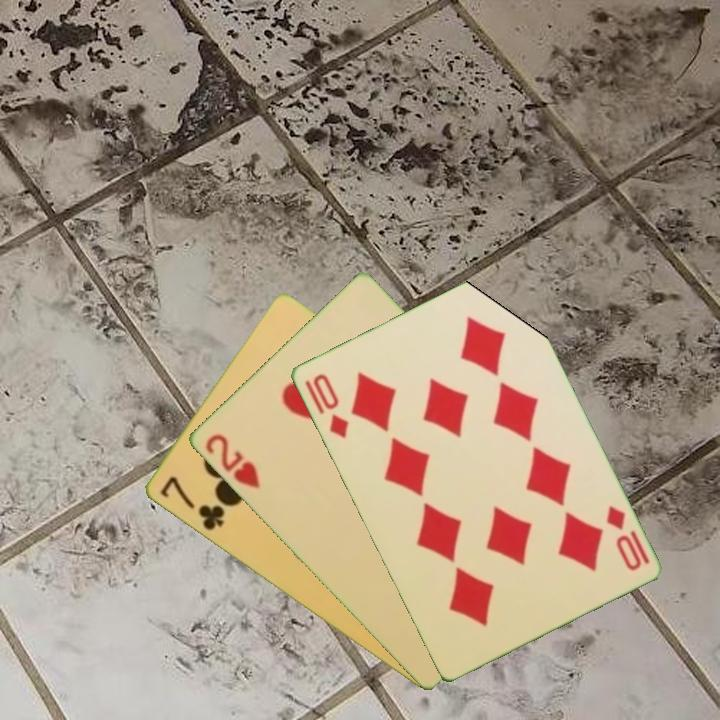10d: (309, 370, 351, 442), (602, 502, 644, 574)
2h: (201, 430, 262, 492)
7c: (156, 472, 227, 534)
